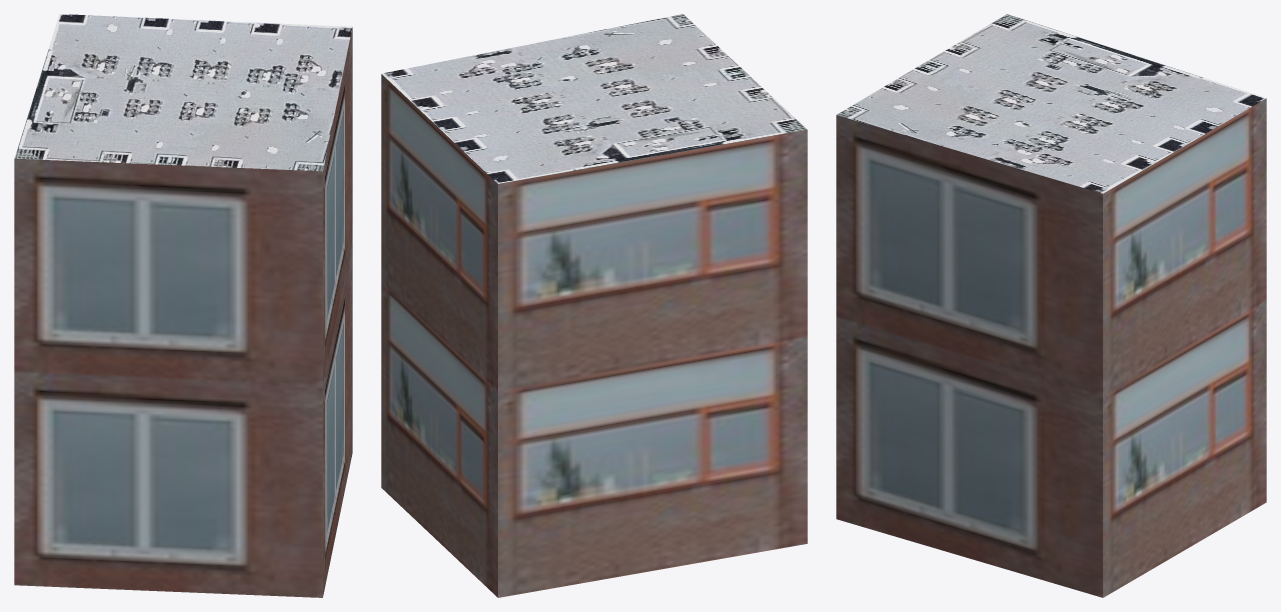
Rendered from ResTex__2266.fbx.
3 renders of one model, left to right at view 1: azimuth 30°, elevation 25°; view 2: azimuth 150°, elevation 25°; view 3: azimuth 270°, elevation 25°, orthographic. The views are drawn at different scales.
Visible parts, largest first — view 1: CityEngineMaterial_19_m, CityEngineMaterial_4_m; view 2: CityEngineMaterial_19_m, CityEngineMaterial_4_m; view 3: CityEngineMaterial_19_m, CityEngineMaterial_4_m.
Part boxes in pixels (x1,y1,x2,y2): CityEngineMaterial_19_m: [14, 27, 352, 597]; CityEngineMaterial_4_m: [14, 14, 352, 171]; CityEngineMaterial_19_m: [381, 74, 807, 597]; CityEngineMaterial_4_m: [381, 14, 807, 183]; CityEngineMaterial_19_m: [836, 98, 1266, 597]; CityEngineMaterial_4_m: [837, 14, 1266, 193].
Size of the model in its own units: 5.72 by 6 by 5.79.
2 materials, 2 textured.
